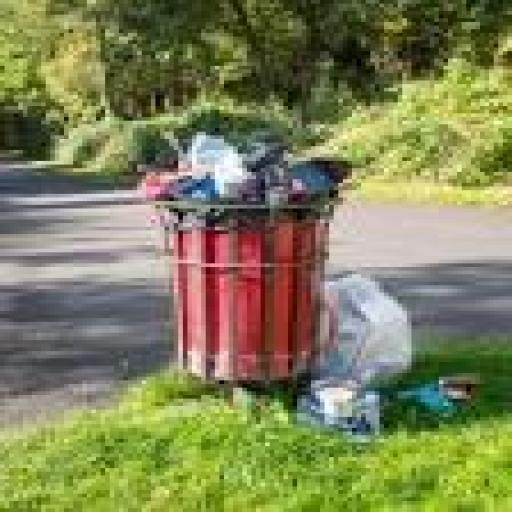poubelle_pleine: (127, 91, 365, 395)
